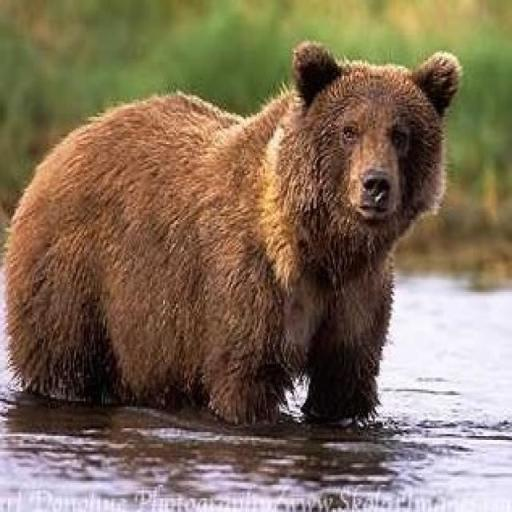Bear: (0, 38, 462, 426)
